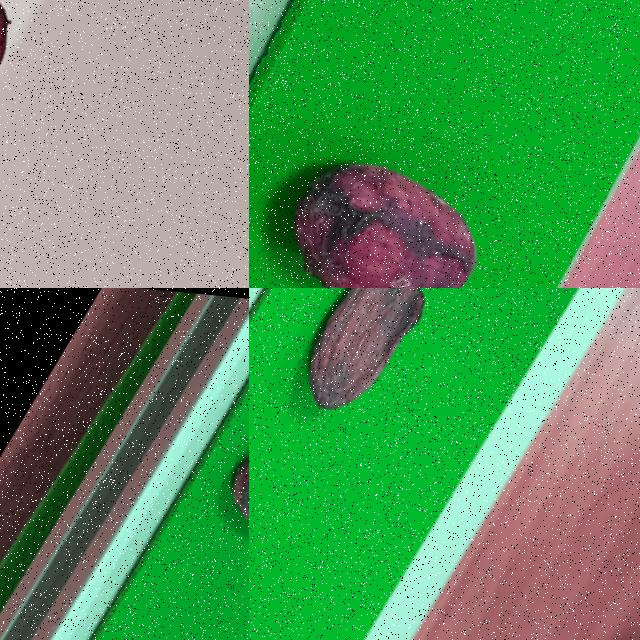Fine_cocoabeans: (249, 3, 568, 287)
Flat_cocoabeans: (249, 288, 502, 565), (148, 308, 248, 639), (0, 0, 73, 287)
